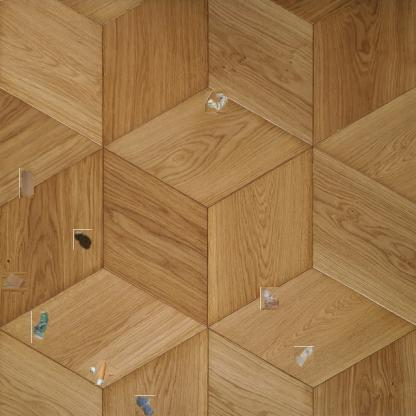dirty: (31, 312, 50, 344), (3, 271, 26, 294), (205, 91, 227, 113), (260, 286, 279, 310), (19, 168, 34, 198), (92, 362, 113, 382), (294, 346, 314, 367)
liquid: (135, 395, 156, 416), (73, 229, 92, 250)
